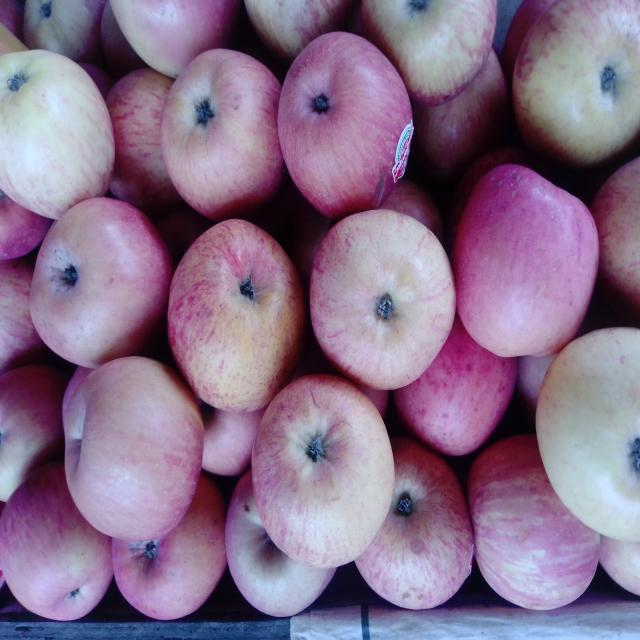Fresh Apple: (303, 208, 467, 382), (17, 195, 172, 373), (255, 387, 407, 568), (460, 165, 598, 347), (463, 445, 600, 622), (64, 365, 204, 533), (272, 52, 413, 215), (180, 240, 305, 413), (511, 0, 640, 155), (148, 53, 282, 202), (0, 68, 106, 211)
